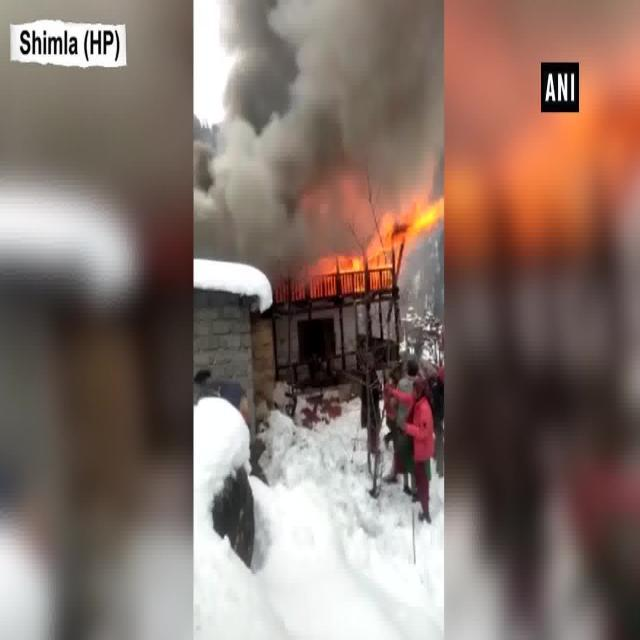Smoke: (237, 6, 436, 202), (213, 203, 365, 262)
